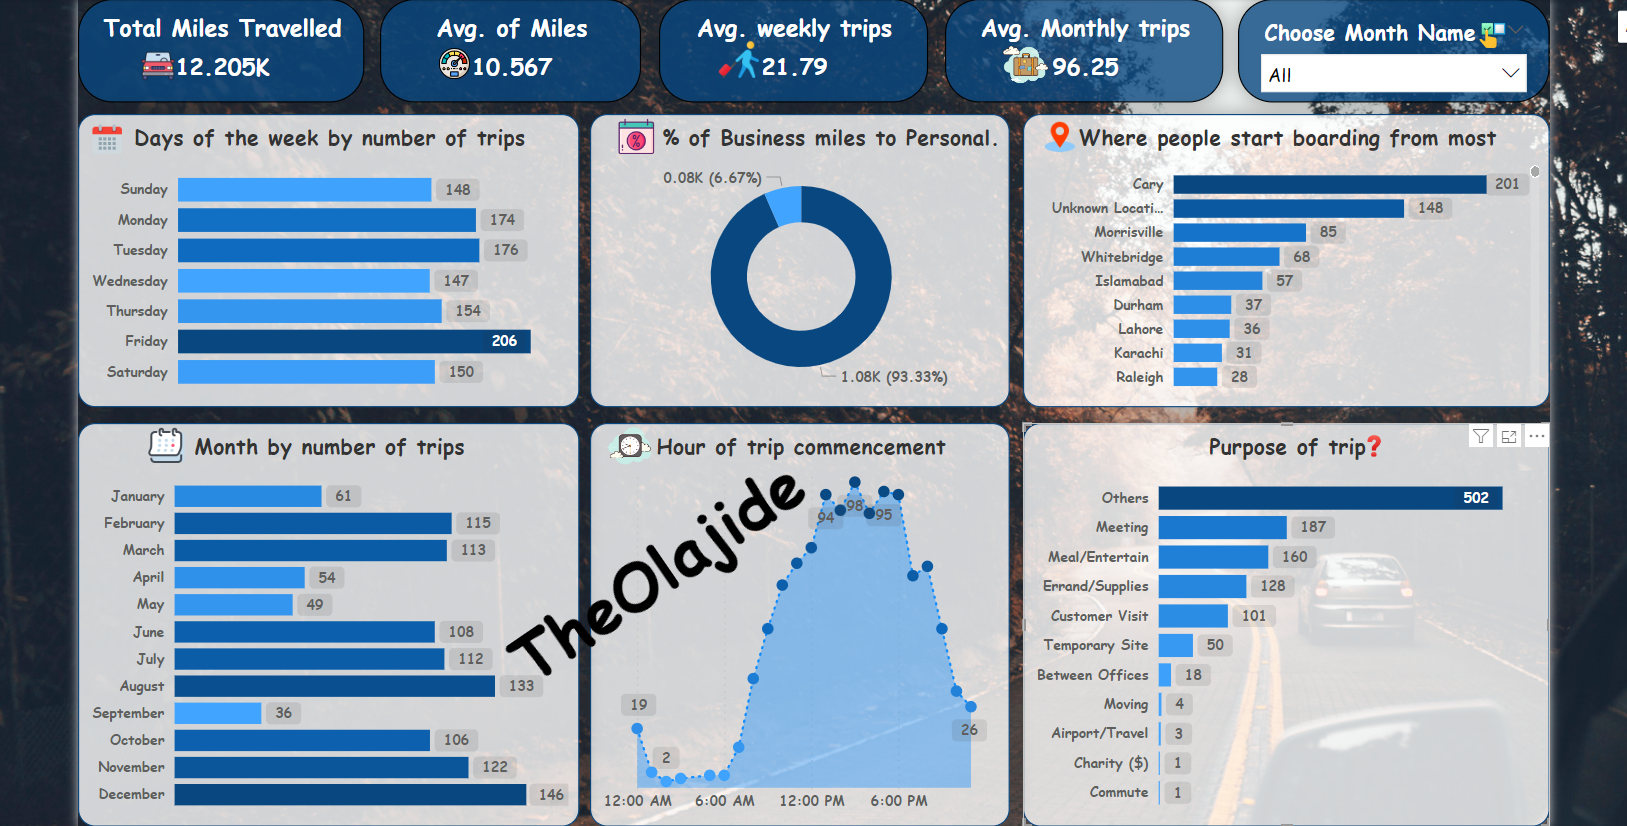

The dashboard page shown, as its layout file describes it:
{"tool":"powerbi","page":{"name":"Page 1","canvas":[1600,900],"ordinal":0},"visuals":[{"type":"shape","box":[0,1.1,1600,81.5],"z":0},{"type":"shape","box":[1313,0,287,81.5],"z":1000},{"type":"card","title":"Total Miles Travelled","fields":{"Values":["Sum(My Uber Drives - 2016.MILES)"]},"box":[10.9,83.7,276.1,89.1],"z":2000},{"type":"clusteredBarChart","title":"Purpose of trip","fields":{"Category":["My Uber Drives - 2016.PURPOSE"],"Y":["CountNonNull(My Uber Drives - 2016.Index)"]},"box":[1064.1,545.7,526.1,346.7],"z":3000,"group":"g2"},{"type":"card","title":"Avg. Monthly trips","fields":{"Values":["Date2.Avg. monthly trips"]},"box":[953.3,83.7,304.3,89.1],"z":4000},{"type":"card","title":"Avg. weekly trips","fields":{"Values":["Date2.Avg. weekly trips"]},"box":[1282.6,83.7,307.6,89.1],"z":5000},{"type":"card","title":"Avg Miles Travelled","fields":{"Values":["Avg(My Uber Drives - 2016.MILES)"]},"box":[312,83.7,291.3,89.1],"z":6000},{"type":"donutChart","title":"% of Business trips to Personal trips","fields":{"Category":["My Uber Drives - 2016.CATEGORY"],"Y":["CountNonNull(My Uber Drives - 2016.Index)"]},"box":[545.7,545.6,503.3,346.7],"z":7000,"group":"g3"},{"type":"clusteredBarChart","title":"Where people start boarding from most","fields":{"Category":["My Uber Drives - 2016.START LOCATION"],"Y":["CountNonNull(My Uber Drives - 2016.Index)"]},"box":[10.9,185.9,519.6,341.3],"z":8000,"group":"g5"},{"type":"lineChart","title":"Hour of trip commencement","fields":{"Category":["Time.Start of Hour"],"Y":["CountNonNull(My Uber Drives - 2016.Index)"]},"box":[545.7,185.9,503.3,342.4],"z":9000,"group":"g6"},{"type":"clusteredBarChart","title":"Days of the week by number of trips","fields":{"Category":["Date.Day Name"],"Y":["CountNonNull(My Uber Drives - 2016.Index)"]},"box":[1064.1,185.9,526.1,341.3],"z":10000,"group":"g1"},{"type":"clusteredBarChart","title":"Month by number of trips","fields":{"Category":["Date.Month Name"],"Y":["CountNonNull(My Uber Drives - 2016.Index)"]},"box":[10.9,545.7,519.6,346.7],"z":11000,"group":"g4"},{"type":"image","box":[287,1.1,84.8,78.3],"z":12000},{"type":"slicer","fields":{"Values":["Date.Month Name"]},"box":[1321.7,2.2,271.7,71.7],"z":13000},{"type":"image","box":[444.6,183.7,44.6,44.6],"z":14000,"group":"g5"},{"type":"image","box":[1389.1,550,34.8,28.3],"z":15000,"group":"g2"},{"type":"image","box":[1497.8,182.6,41.3,45.7],"z":16000,"group":"g1"},{"type":"image","box":[106.6,545.7,51.1,46.7],"z":17000,"group":"g4"},{"type":"image","box":[626.1,178.3,54.3,56.5],"z":18000,"group":"g6"},{"type":"image","box":[963.1,540.2,44.6,44.6],"z":19000,"group":"g3"},{"type":"card","title":"Total Number Of Trips","fields":{"Values":["CountNonNull(My Uber Drives - 2016.Index)"]},"box":[628.3,83.7,300,89.1],"z":20000},{"type":"group","id":"g1","title":"Group 2","box":[1064.1,182.6,526.1,344.6],"z":20002},{"type":"group","id":"g2","title":"Group 3","box":[1064.1,545.7,526.1,346.7],"z":20003},{"type":"group","id":"g3","title":"Group 4","box":[545.7,540.2,503.3,352.2],"z":20004},{"type":"group","id":"g4","title":"Group 5","box":[10.9,545.7,519.6,346.7],"z":20005},{"type":"group","id":"g5","title":"Group 6","box":[10.9,183.7,519.6,343.5],"z":20006},{"type":"group","id":"g6","title":"Group 1","box":[545.7,178.3,503.3,350],"z":20007}]}

Visuals, with their boxes on the page's 1600x900 design canvas (x1, y1, x2, y2). These are canvas units, not pixel positions in the 1627x826 screenshot, which may show the page scaled, cropped or inside an application window:
shape: region(0, 1, 1600, 83)
shape: region(1313, 0, 1600, 82)
"Total Miles Travelled" card: region(11, 84, 287, 173)
"Purpose of trip" clusteredBarChart: region(1064, 546, 1590, 892)
"Avg. Monthly trips" card: region(953, 84, 1258, 173)
"Avg. weekly trips" card: region(1283, 84, 1590, 173)
"Avg Miles Travelled" card: region(312, 84, 603, 173)
"% of Business trips to Personal trips" donutChart: region(546, 546, 1049, 892)
"Where people start boarding from most" clusteredBarChart: region(11, 186, 530, 527)
"Hour of trip commencement" lineChart: region(546, 186, 1049, 528)
"Days of the week by number of trips" clusteredBarChart: region(1064, 186, 1590, 527)
"Month by number of trips" clusteredBarChart: region(11, 546, 530, 892)
image: region(287, 1, 372, 79)
slicer - Date.Month Name: region(1322, 2, 1593, 74)
image: region(445, 184, 489, 228)
image: region(1389, 550, 1424, 578)
image: region(1498, 183, 1539, 228)
image: region(107, 546, 158, 592)
image: region(626, 178, 680, 235)
image: region(963, 540, 1008, 585)
"Total Number Of Trips" card: region(628, 84, 928, 173)
"Group 2" group: region(1064, 183, 1590, 527)
"Group 3" group: region(1064, 546, 1590, 892)
"Group 4" group: region(546, 540, 1049, 892)
"Group 5" group: region(11, 546, 530, 892)
"Group 6" group: region(11, 184, 530, 527)
"Group 1" group: region(546, 178, 1049, 528)
